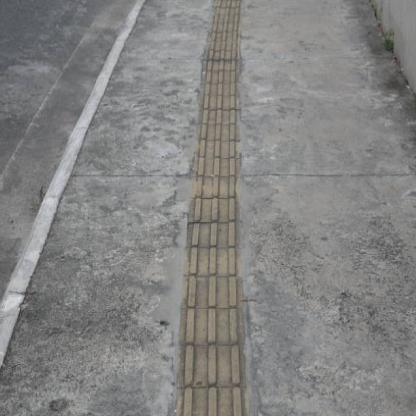podotacti: (176, 1, 246, 414)
